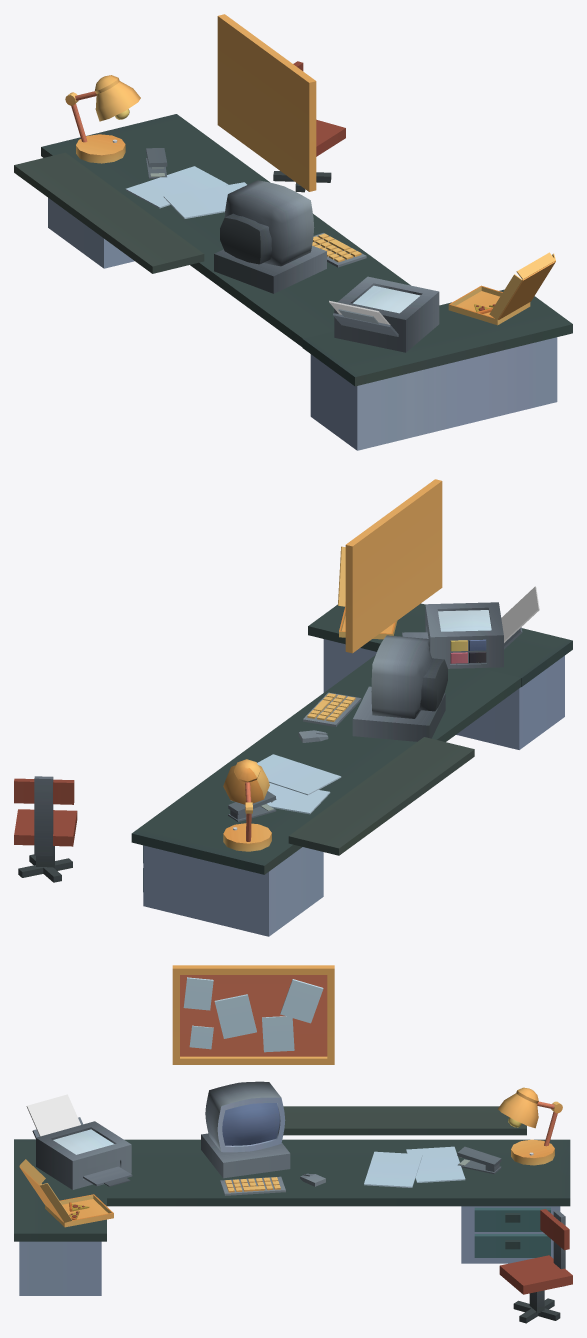
The model's file is frontDeskTest.fbx.
3 views of the same model, one above another, from view 1: azimuth 30°, elevation 25°; view 2: azimuth 150°, elevation 25°; view 3: azimuth 270°, elevation 25° (orthographic). The views are drawn at different scales.
Parts seen in each view (by area): view 1: tables, tables.003, tablon, tables.002, Cube.023, impresora, pc, pizza, pc.002, tables.001, pc.001, papel.001 (+6 smaller); view 2: tables, tablon, tables.001, Cube.023, tables.003, tables.002, pc, impresora, pc.002, papel, silla, silla.001 (+8 smaller); view 3: tables, tablon, Cube.023, pc, tables.003, tables.002, impresora, tables.004, pc.002, pizza, silla, papel (+15 smaller).
Part boxes in pixels (x1=…): tables: x1=41, y1=114, x2=410, y2=347; tables.003: x1=310, y1=337, x2=557, y2=450; tablon: x1=217, y1=14, x2=316, y2=191; tables.002: x1=302, y1=289, x2=572, y2=386; Cube.023: x1=14, y1=152, x2=204, y2=273; impresora: x1=334, y1=276, x2=439, y2=352; pc: x1=224, y1=180, x2=314, y2=266; pizza: x1=448, y1=252, x2=555, y2=325; pc.002: x1=214, y1=245, x2=326, y2=293; tables.001: x1=48, y1=198, x2=134, y2=268; pc.001: x1=220, y1=213, x2=271, y2=264; papel.001: x1=125, y1=166, x2=228, y2=208; tables: x1=131, y1=655, x2=520, y2=874; tablon: x1=345, y1=479, x2=442, y2=653; tables.001: x1=143, y1=845, x2=323, y2=936; Cube.023: x1=288, y1=737, x2=474, y2=855; tables.003: x1=323, y1=639, x2=564, y2=749; tables.002: x1=308, y1=603, x2=572, y2=686; pc: x1=371, y1=635, x2=432, y2=718; impresora: x1=425, y1=602, x2=503, y2=668; pc.002: x1=352, y1=686, x2=445, y2=741; papel: x1=257, y1=754, x2=341, y2=795; silla: x1=14, y1=809, x2=77, y2=846; silla.001: x1=34, y1=776, x2=53, y2=855; tables: x1=107, y1=1139, x2=570, y2=1206; tablon: x1=172, y1=965, x2=334, y2=1064; Cube.023: x1=283, y1=1106, x2=526, y2=1135; pc: x1=205, y1=1081, x2=285, y2=1152; tables.003: x1=19, y1=1241, x2=101, y2=1295; tables.002: x1=14, y1=1139, x2=106, y2=1241; impresora: x1=36, y1=1121, x2=131, y2=1189; tables.004: x1=474, y1=1207, x2=550, y2=1257; pc.002: x1=201, y1=1133, x2=290, y2=1178; pizza: x1=19, y1=1159, x2=113, y2=1227; silla: x1=499, y1=1255, x2=572, y2=1294; papel: x1=364, y1=1151, x2=422, y2=1187.
Bounding box in the file's own units: 330 × 283 × 548.
2 materials, 2 textured.
